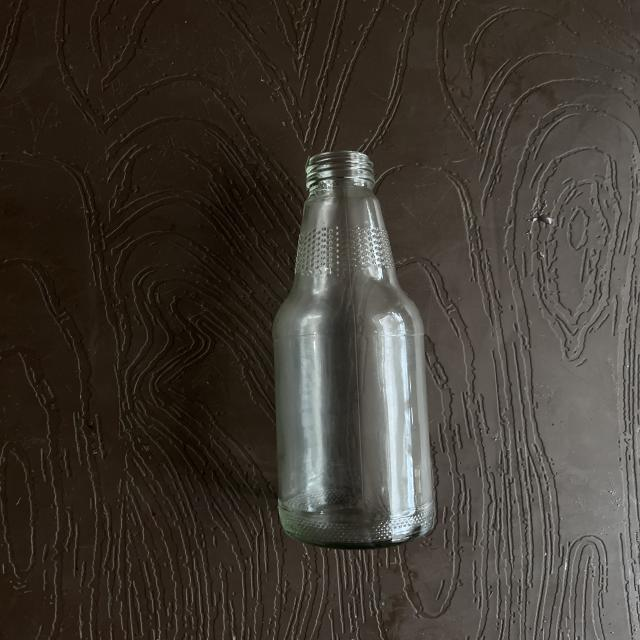Glass_Bottle: (273, 152, 434, 548)
